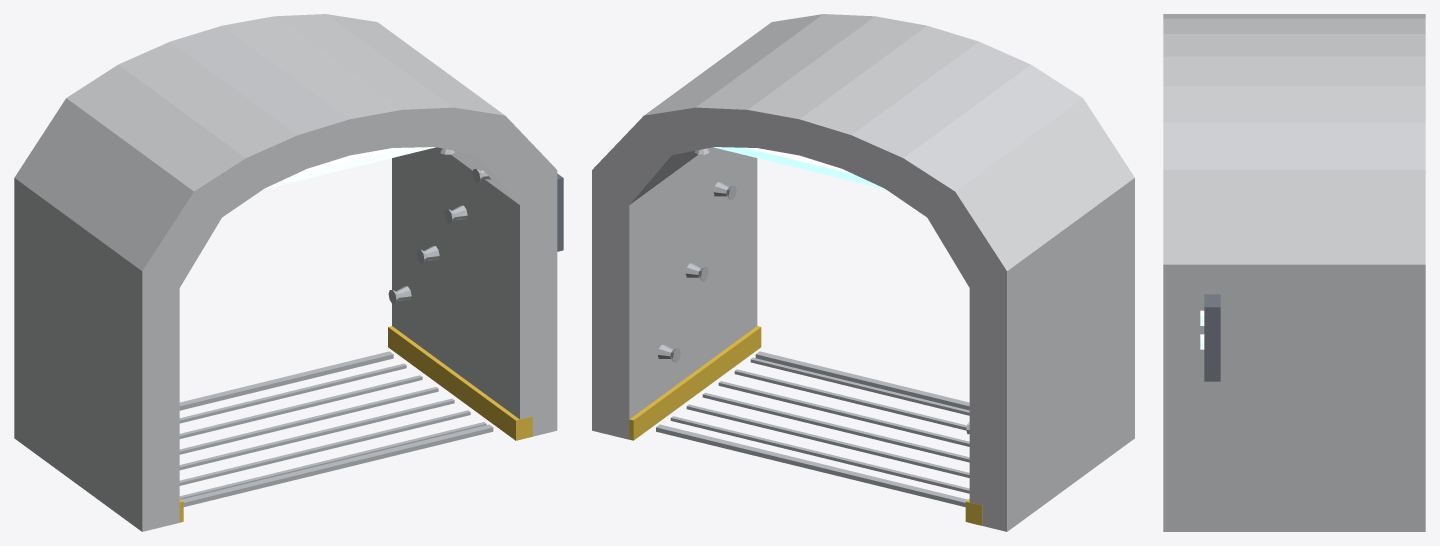
File: ufo-crash-site-and-recovery-facility-decontamination-a-c32d776f__17367.glb
3 renders of one model, left to right at view 1: azimuth 30°, elevation 25°; view 2: azimuth 150°, elevation 25°; view 3: azimuth 270°, elevation 25°, orthographic. The views are drawn at different scales.
Visible parts, largest first — view 1: decontamination-arch; view 2: decontamination-arch; view 3: decontamination-arch.
Boxes of the visible parts, x1,y1,x2,y2 form: decontamination-arch: [14, 14, 563, 531]; decontamination-arch: [592, 14, 1134, 531]; decontamination-arch: [1163, 14, 1425, 531].
Size of the model in its own units: 3.19 by 2.5 by 1.6.
